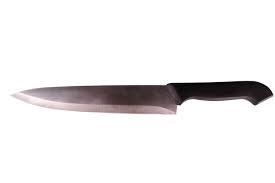Knife: (10, 80, 273, 114)
